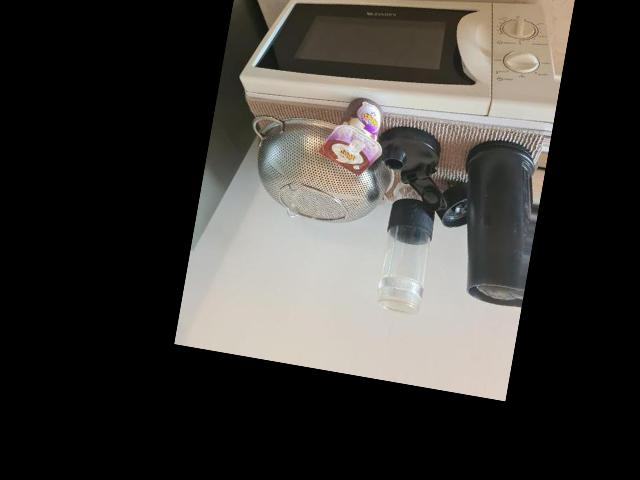milky: (321, 94, 389, 179)
